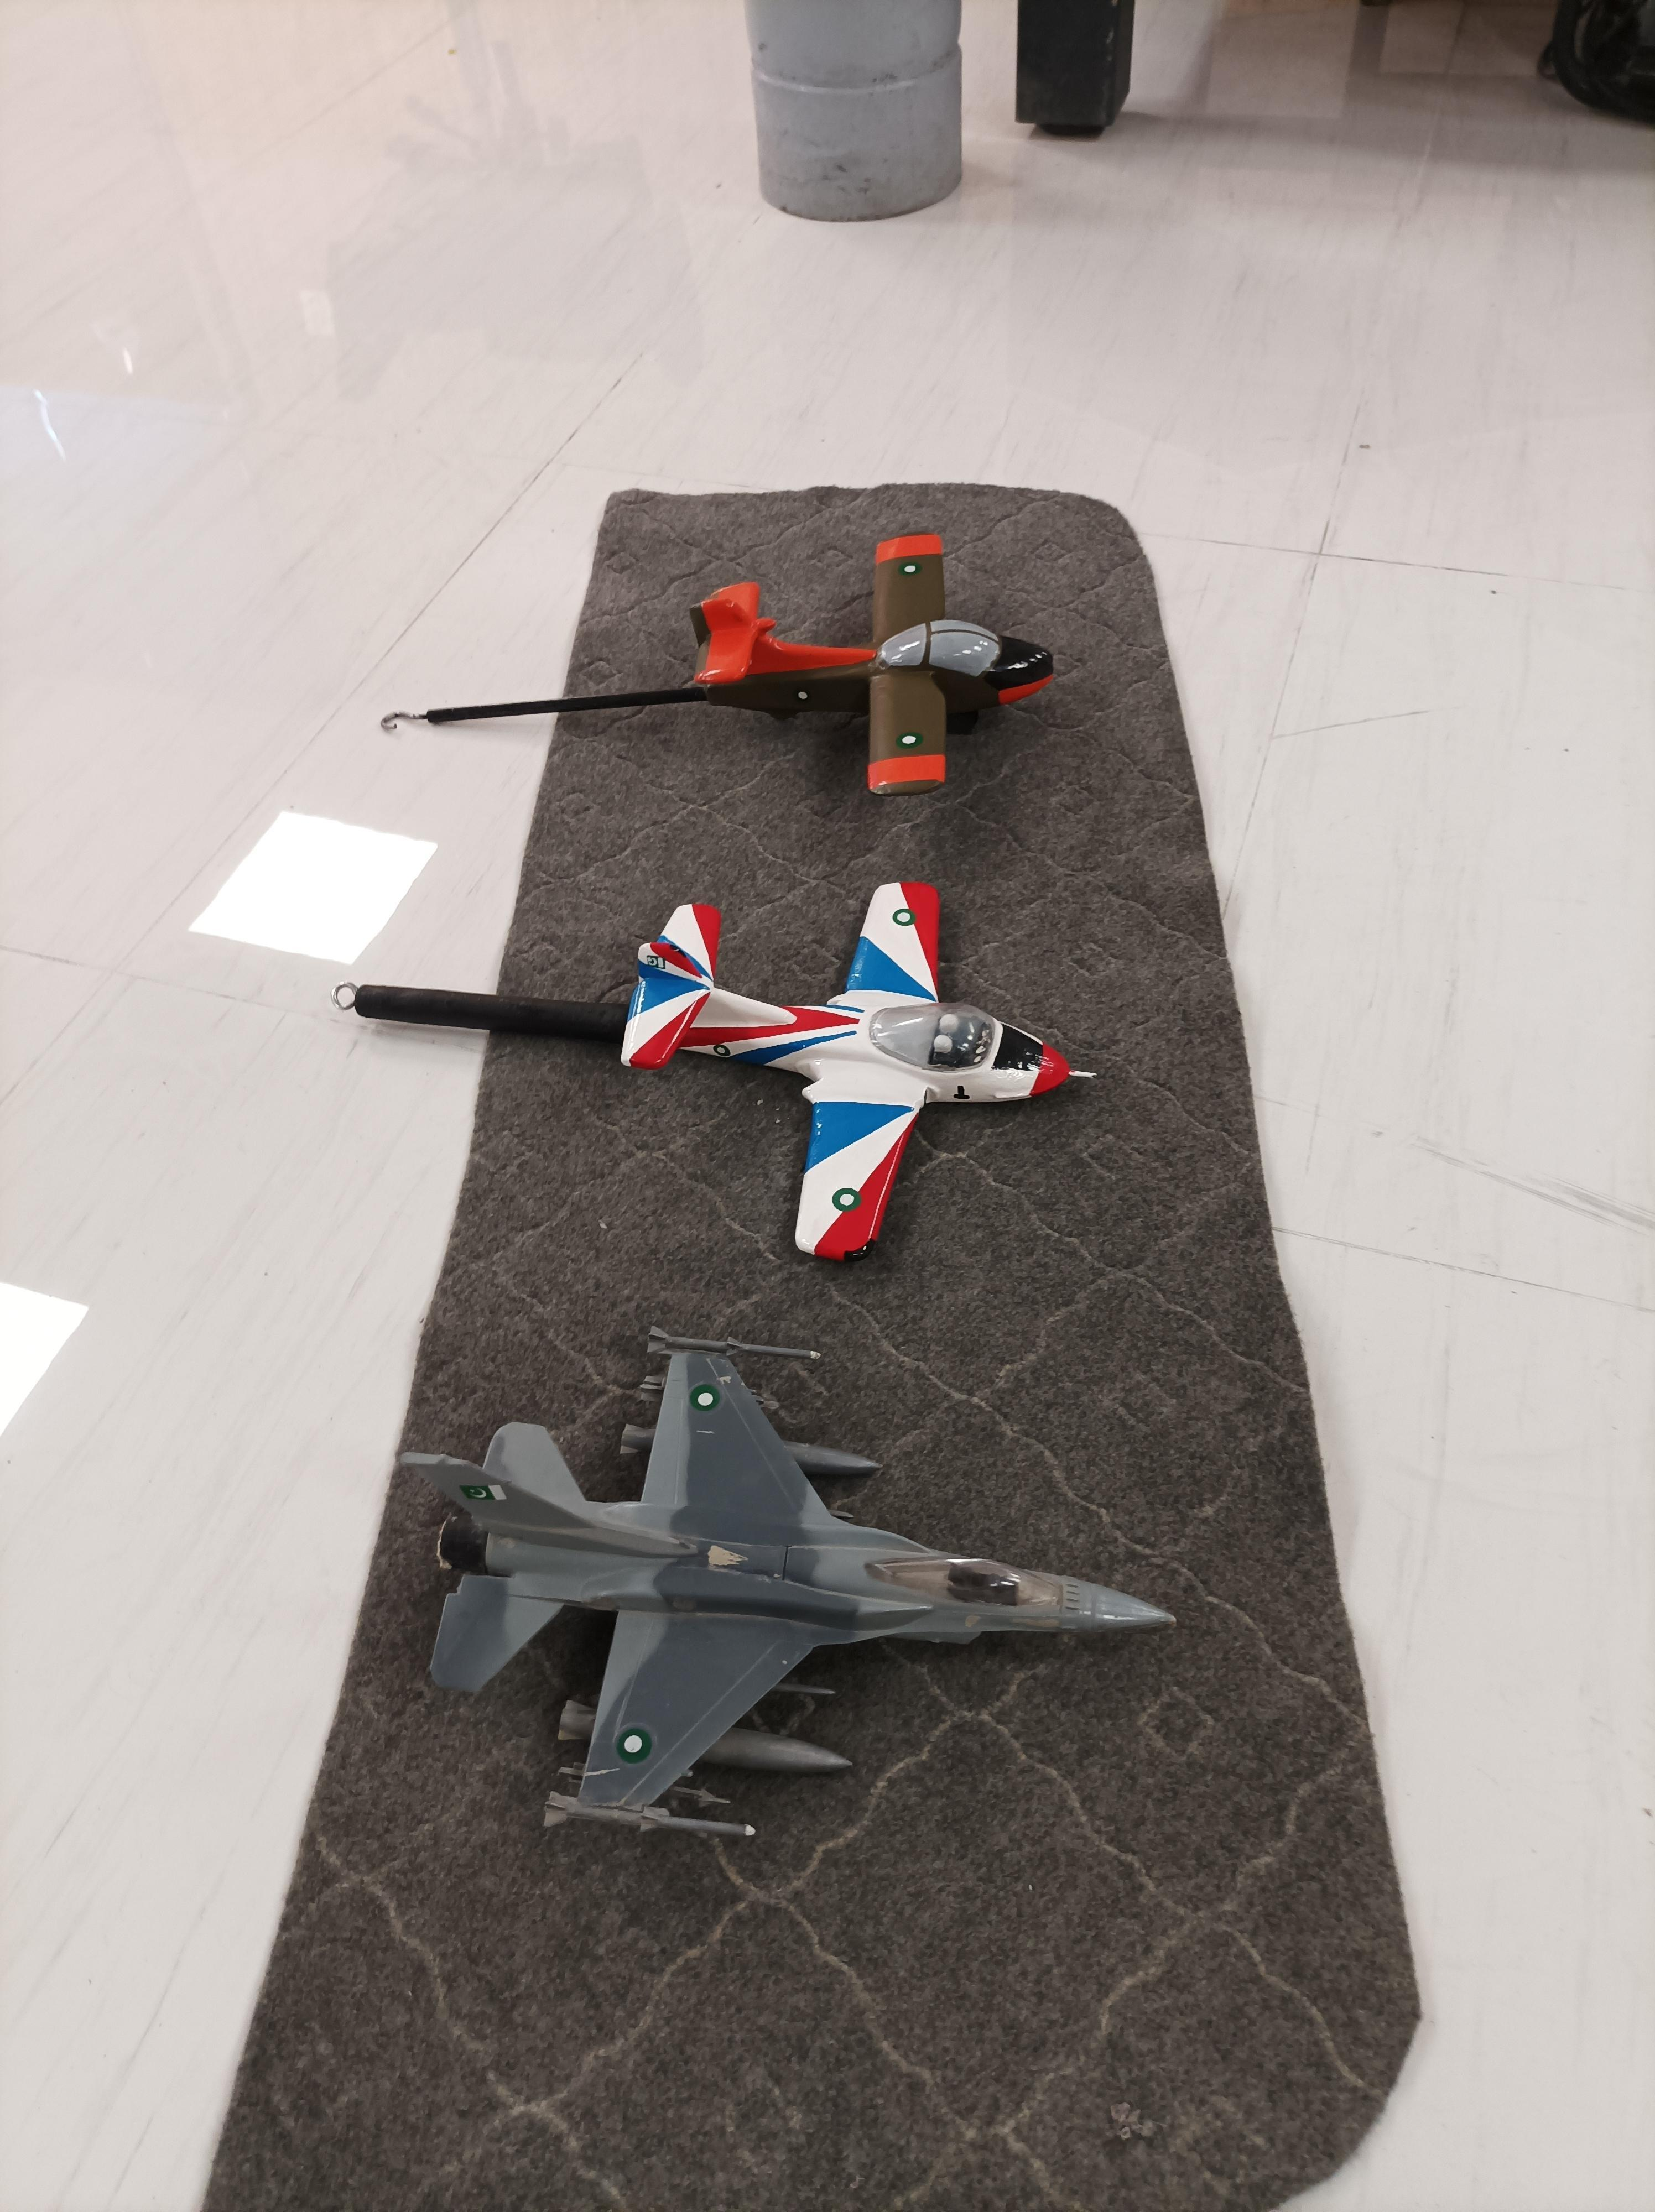Airplane: (376, 1308, 1189, 1851), (617, 860, 1104, 1282), (669, 525, 1071, 808)
